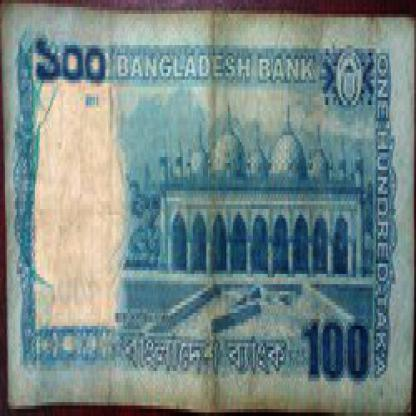one hundred taka: (300, 312, 374, 392), (26, 28, 110, 94)
